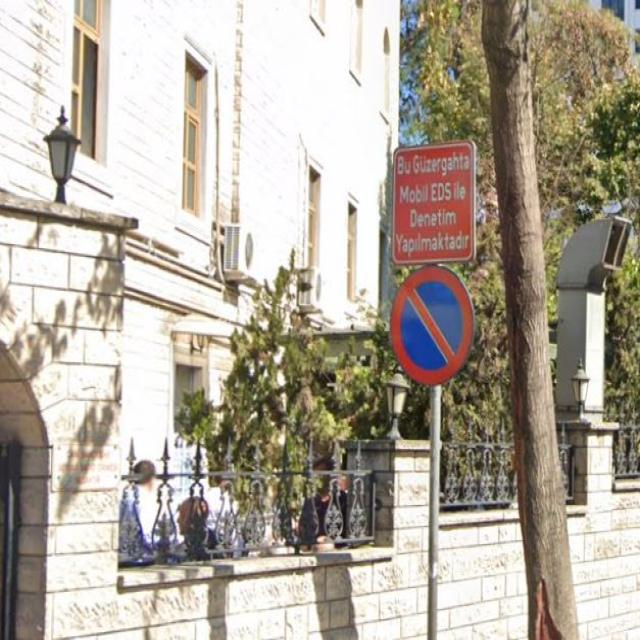parkyasak: (391, 265, 473, 389)
